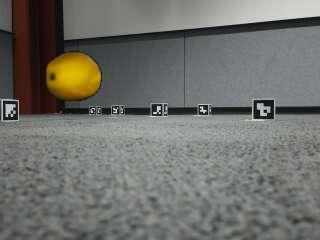lemon: (45, 52, 100, 101)
